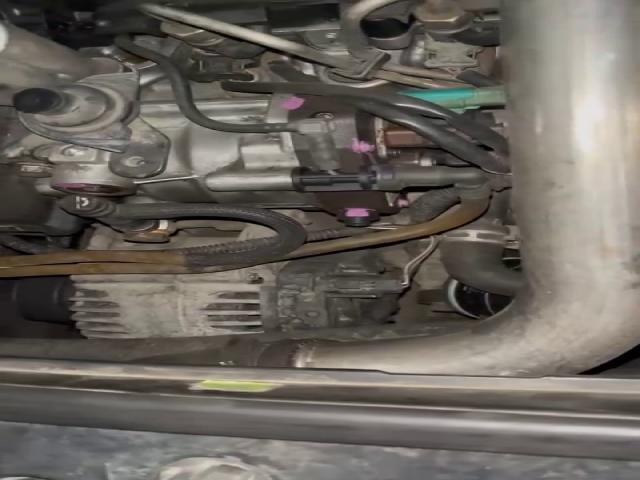alternator: (71, 248, 410, 341)
high_pressure_pump: (41, 84, 437, 226)
